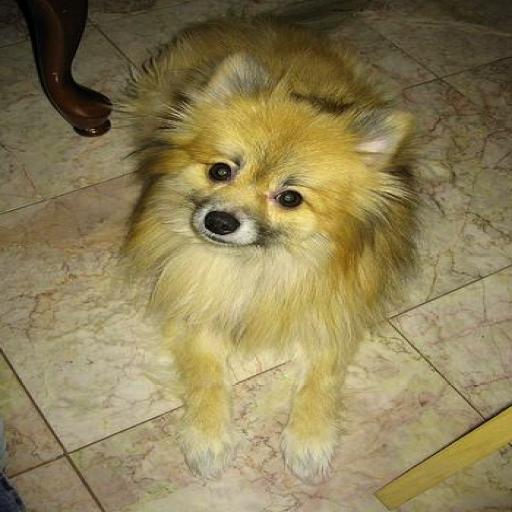dog_face: (148, 76, 406, 264)
